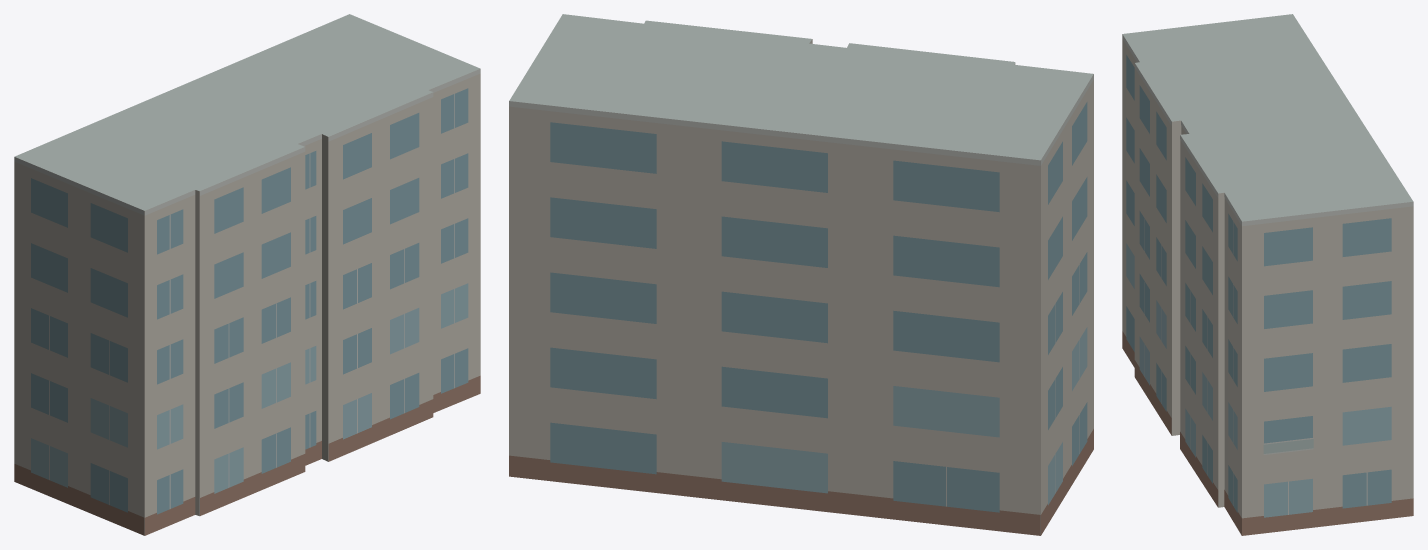
File: survey-upis-32711244.glb
3 renders of one model, left to right at view 1: azimuth 30°, elevation 25°; view 2: azimuth 150°, elevation 25°; view 3: azimuth 270°, elevation 25°, orthographic. The views are drawn at different scales.
Visible parts, largest first — view 1: survey-upis-32711244.tmp; view 2: survey-upis-32711244.tmp; view 3: survey-upis-32711244.tmp.
Part boxes in pixels (<box>): survey-upis-32711244.tmp: <box>14,14,480,535</box>; survey-upis-32711244.tmp: <box>509,14,1093,535</box>; survey-upis-32711244.tmp: <box>1122,14,1413,535</box>.
Size of the model in its own units: 23.39 by 16.5 by 13.87.
